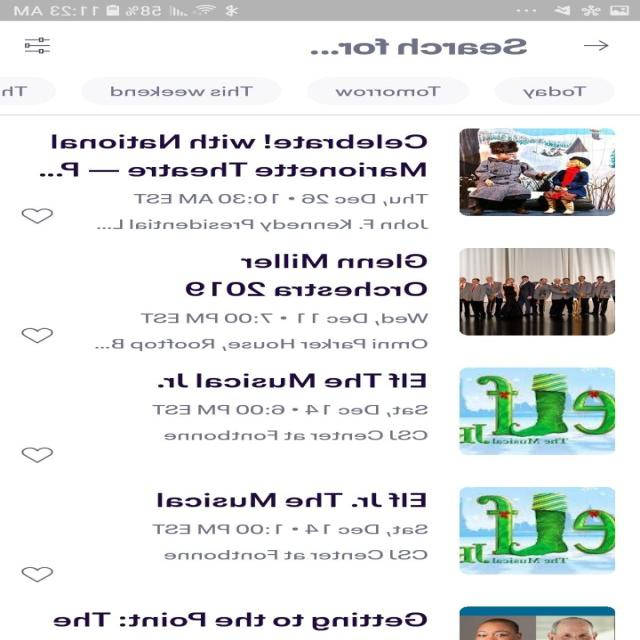Icon: (22, 327, 54, 344), (22, 208, 55, 224), (22, 447, 55, 463), (22, 566, 54, 582), (25, 37, 51, 54), (584, 40, 610, 51)
Image: (459, 247, 616, 336), (459, 128, 616, 216), (459, 486, 616, 574), (460, 367, 616, 455), (459, 605, 616, 640)
Text: (40, 133, 428, 177), (95, 313, 429, 351), (98, 194, 430, 232), (185, 253, 428, 297), (152, 404, 428, 440), (152, 524, 428, 560), (54, 612, 428, 630), (158, 492, 428, 507), (158, 373, 427, 387), (311, 38, 528, 55)
TextButton: (81, 77, 283, 105), (306, 77, 469, 105), (494, 77, 616, 105), (1, 77, 57, 105)
